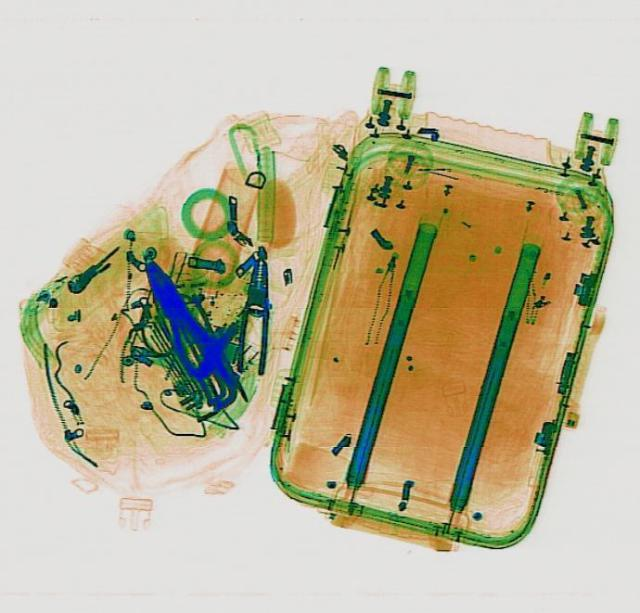Pliers: (125, 252, 249, 409), (231, 254, 277, 373)
